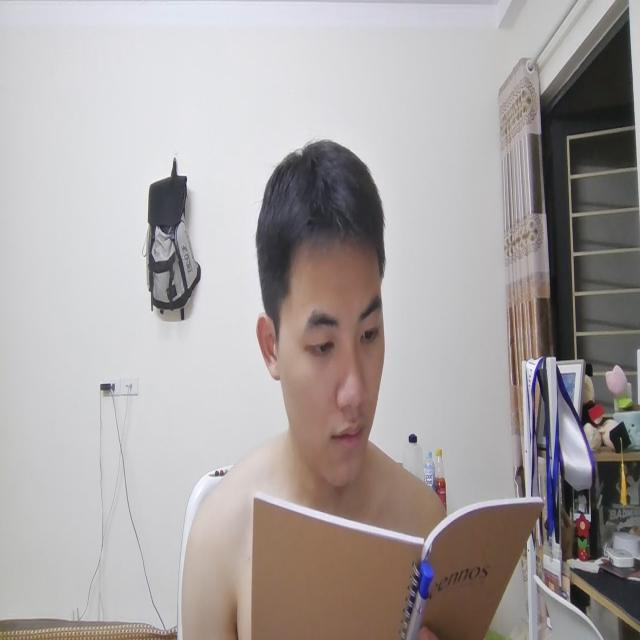book: (248, 477, 541, 640)
student: (191, 135, 447, 516)
